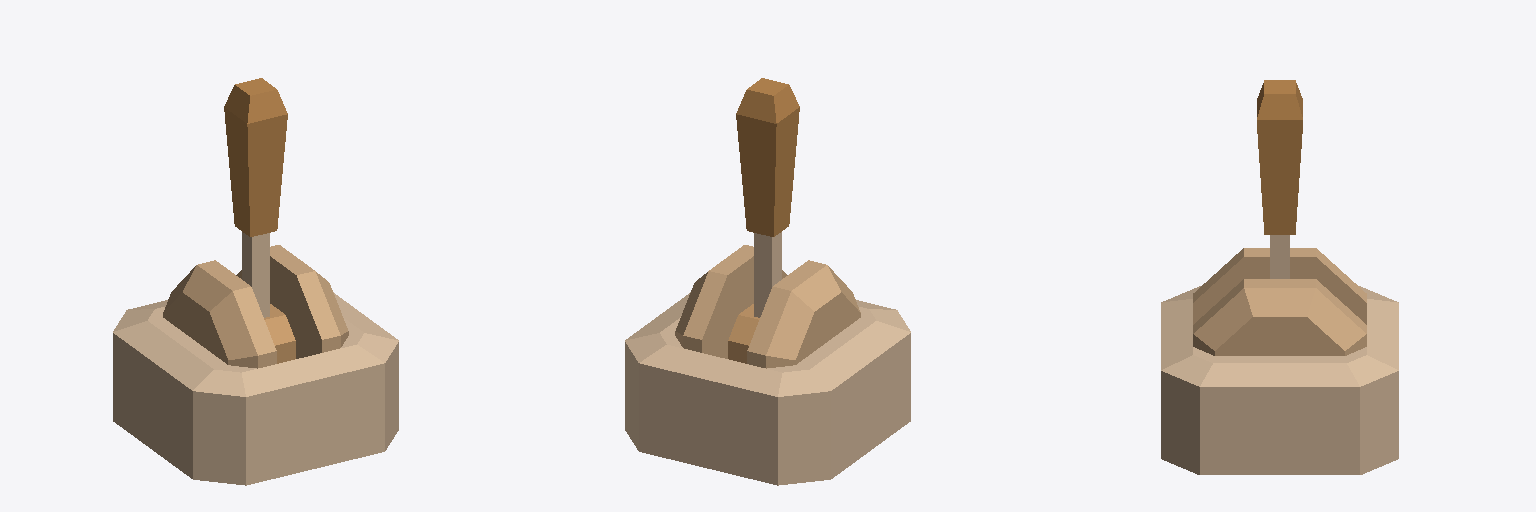
Rendered from Puzzle_Control_Lever.obj.
3 views of the same model, side by side, from view 1: azimuth 30°, elevation 25°; view 2: azimuth 150°, elevation 25°; view 3: azimuth 270°, elevation 25° (orthographic).
Visible parts, largest first — view 1: object2, object1; view 2: object2, object1; view 3: object2, object1.
Part boxes in pixels (left/top/right/bottom): object2: left=113, top=245, right=398, bottom=485; object1: left=224, top=78, right=295, bottom=363; object2: left=625, top=245, right=910, bottom=485; object1: left=728, top=78, right=799, bottom=363; object2: left=1161, top=248, right=1398, bottom=474; object1: left=1257, top=80, right=1302, bottom=278.
Size of the model in its own units: 0.55 by 0.86 by 0.55.